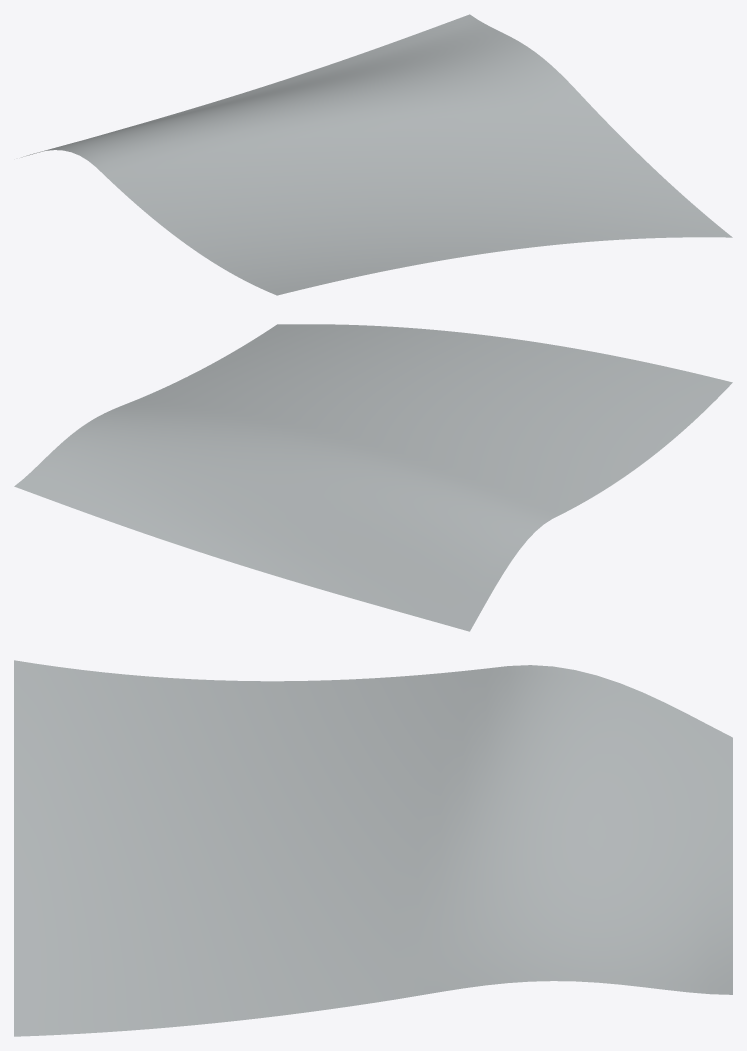
The model's file is alpine-9-3.glb.
The picture shows the model from 3 angles, top to bottom: view 1: azimuth 30°, elevation 25°; view 2: azimuth 150°, elevation 25°; view 3: azimuth 270°, elevation 25°; orthographic projection. The views are drawn at different scales.
Parts seen in each view (by area): view 1: alpine-9-3; view 2: alpine-9-3; view 3: alpine-9-3.
Part boxes in pixels (<box>): alpine-9-3: <box>21,14,732,295</box>; alpine-9-3: <box>14,324,732,631</box>; alpine-9-3: <box>14,660,732,1036</box>.
Size of the model in its own units: 256 by 32.7 by 256.
1 material, 1 textured.
